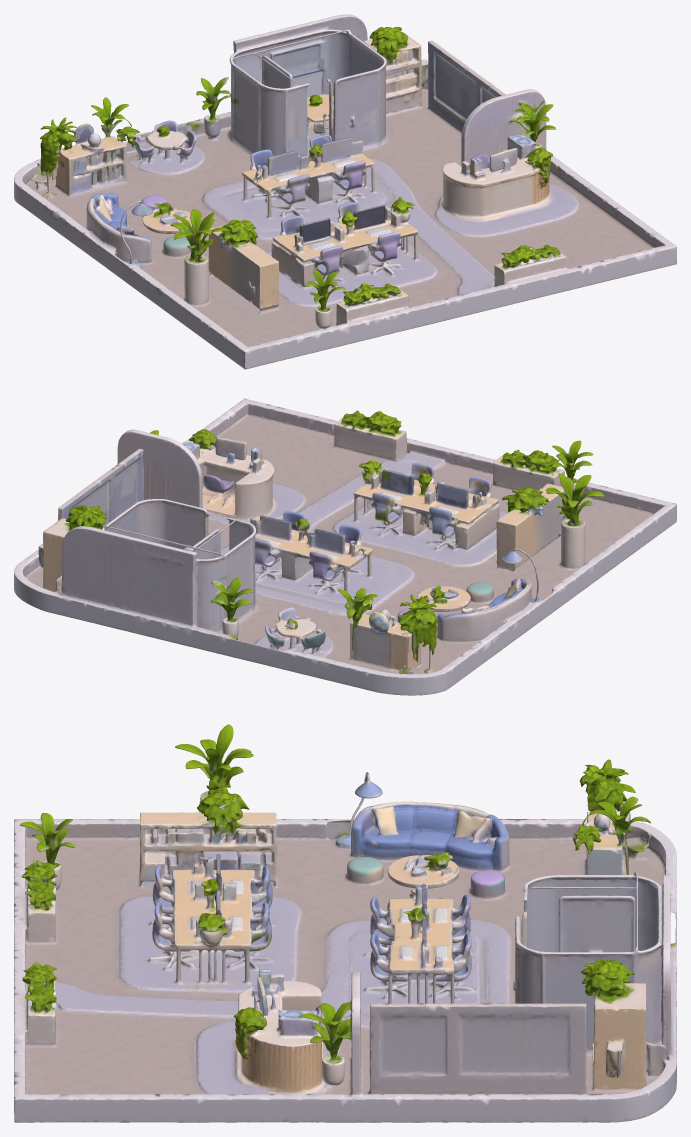
The model's file is Meshy_AI_Pastel_Garden_Office_1117142039_texture.glb.
The picture shows the model from 3 angles, top to bottom: view 1: azimuth 30°, elevation 25°; view 2: azimuth 150°, elevation 25°; view 3: azimuth 270°, elevation 25°; orthographic projection. The views are drawn at different scales.
Size of the model in its own units: 1.9 by 0.3936 by 1.9.
Materials: 1 (1 with a texture image).
